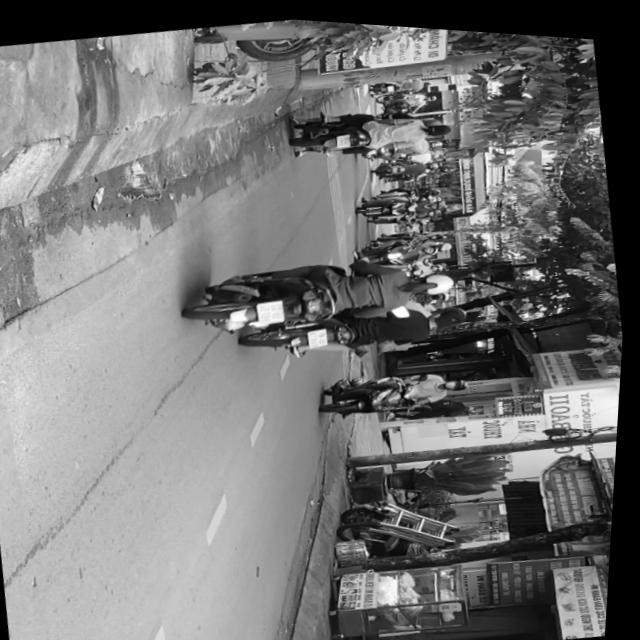helmet: (409, 264, 460, 295), (446, 372, 475, 389)
licenseplate: (182, 228, 469, 348), (240, 280, 478, 374), (285, 88, 460, 168), (318, 352, 478, 426)
motorcyclist: (430, 297, 473, 326), (425, 116, 456, 135)
nohelmet: (259, 296, 289, 323), (310, 324, 333, 345), (337, 130, 353, 145)
